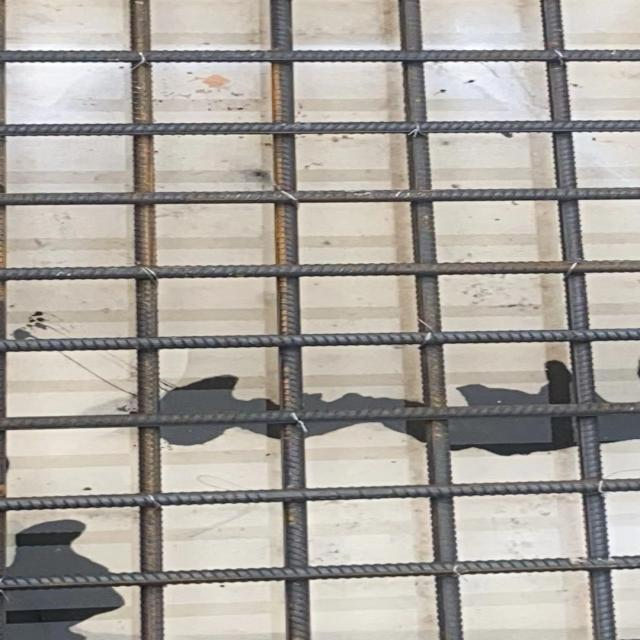ribbed bar: (539, 0, 623, 639), (397, 0, 464, 639), (270, 0, 312, 639), (1, 555, 640, 591), (128, 0, 163, 639), (1, 478, 640, 512), (1, 401, 640, 430), (1, 327, 640, 352), (1, 260, 640, 281), (1, 187, 640, 207), (1, 119, 640, 135), (1, 49, 640, 63)
